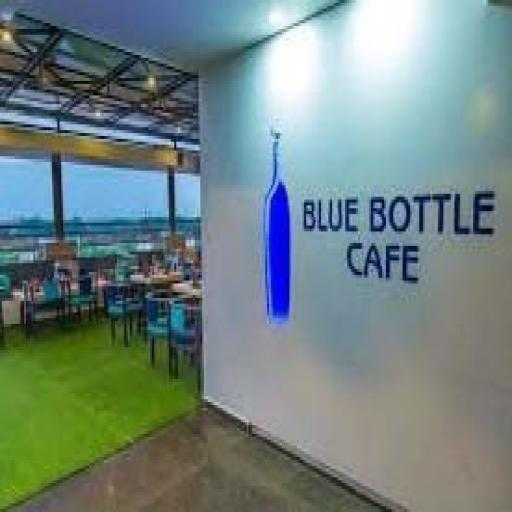bottle: (238, 84, 300, 344)
